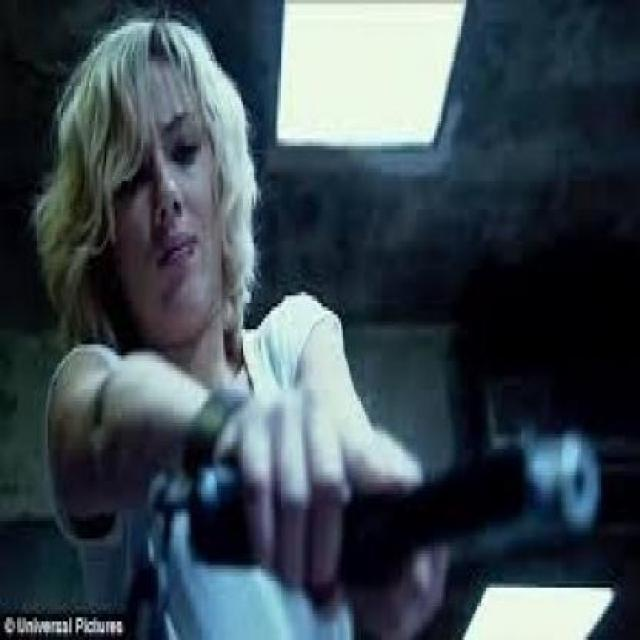Pistol: (200, 415, 595, 580)
